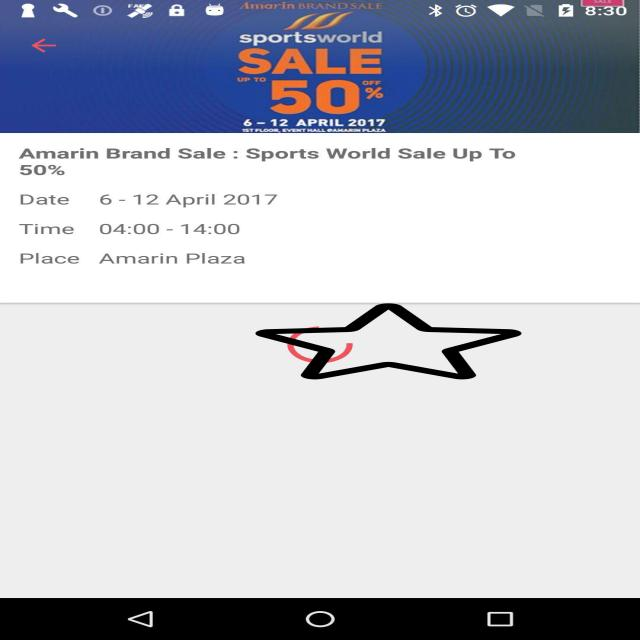forced continuity: (256, 302, 522, 381)
